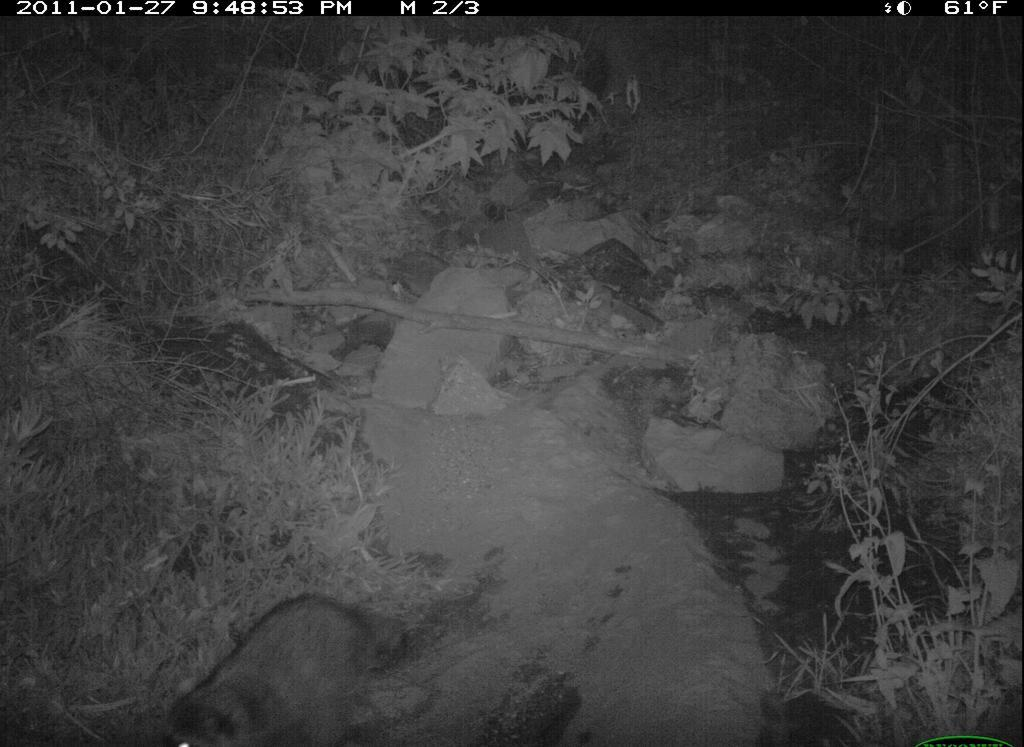raccoon: (159, 584, 419, 747)
